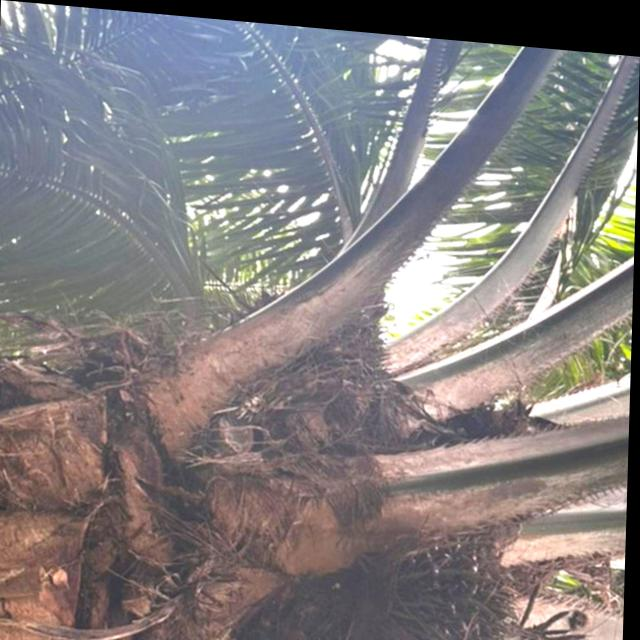unripe: (336, 481, 538, 640)
